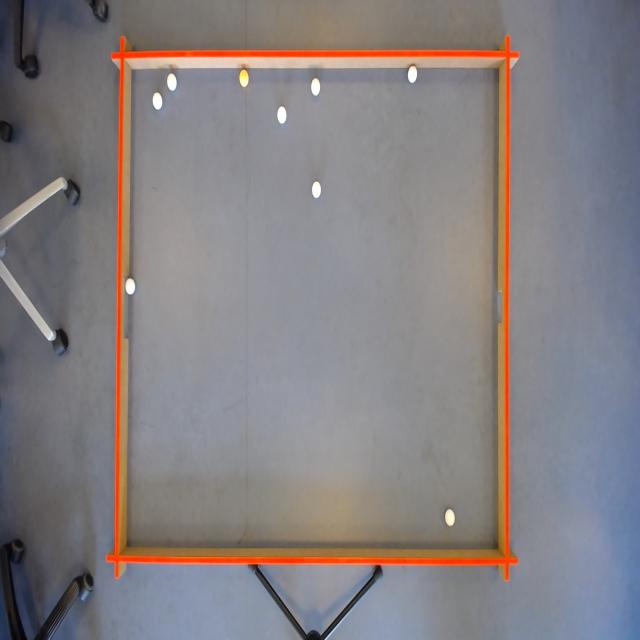orange_ball: (239, 68, 249, 88)
white_ball: (165, 70, 179, 95), (309, 75, 322, 98), (310, 179, 323, 202), (444, 506, 456, 530), (406, 64, 419, 86), (152, 90, 164, 113), (124, 276, 137, 297), (276, 105, 288, 126)
